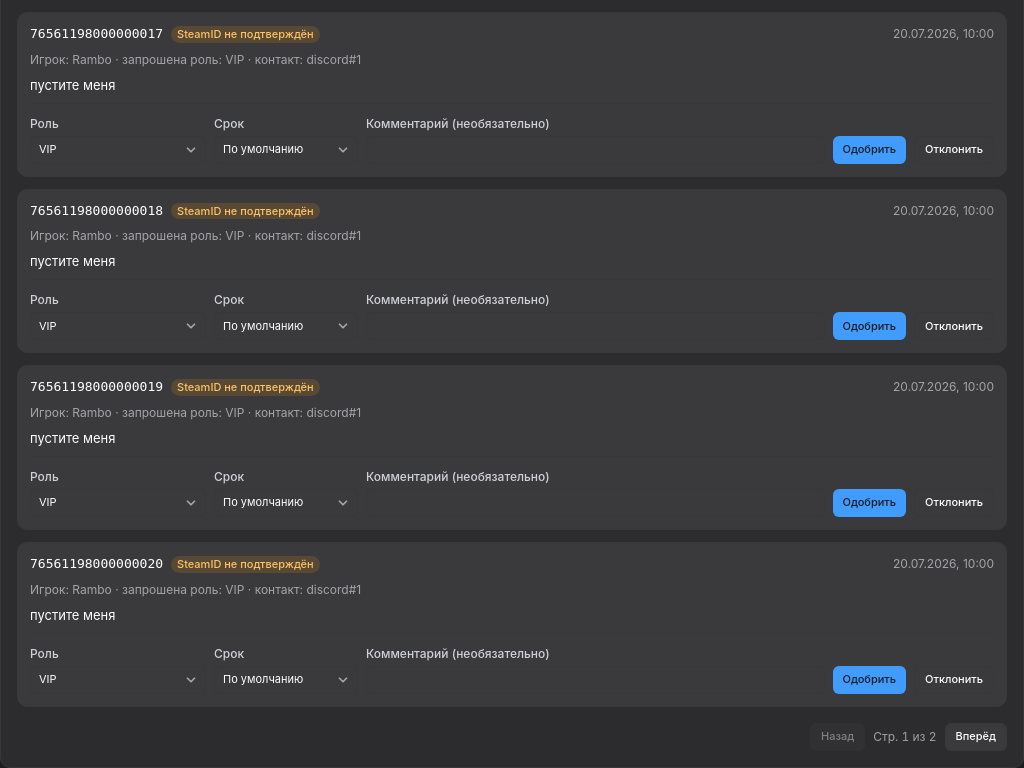
Test: ApplicationsSection › shows the true total, not just the current page size, and paginates beyond the first page (#722)
The width and height of the screenshot is (1024, 768).
(page scrolled)
Expected: the text "76561198000099999" is not shown
Click the button "Вперёд": (976, 737) [945,723,1007,751]
(page scrolled)
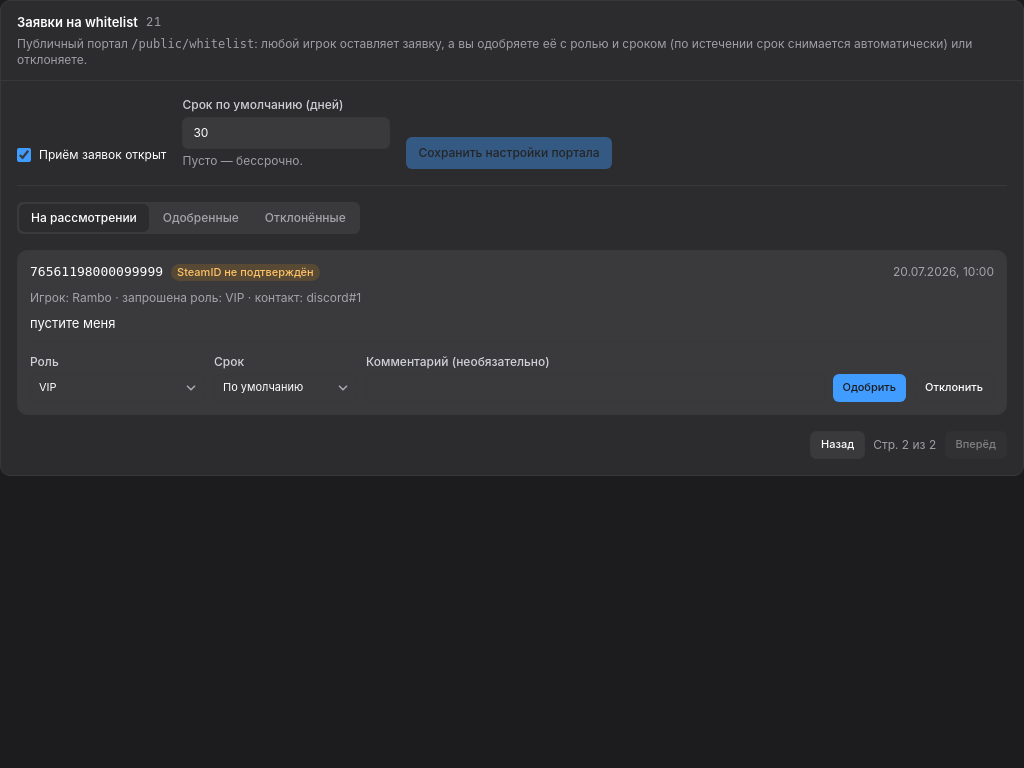
Now the text "76561198000099999" is shown, box [30,263,163,282]
